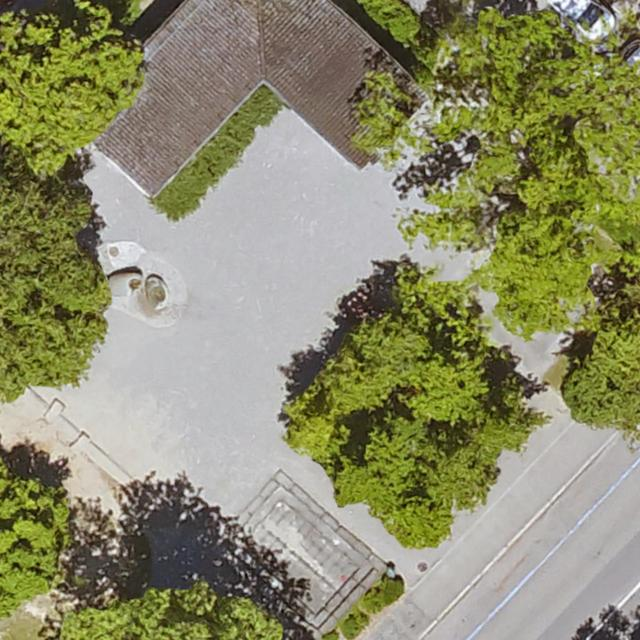tree: (408, 0, 640, 334), (0, 161, 105, 392), (1, 3, 143, 161), (60, 589, 294, 640), (569, 273, 640, 435), (0, 461, 66, 622), (349, 310, 431, 374), (366, 422, 436, 488), (415, 356, 486, 417), (317, 354, 393, 410), (285, 396, 346, 459), (427, 456, 492, 505), (482, 403, 545, 450), (387, 497, 448, 544), (332, 463, 390, 508)
